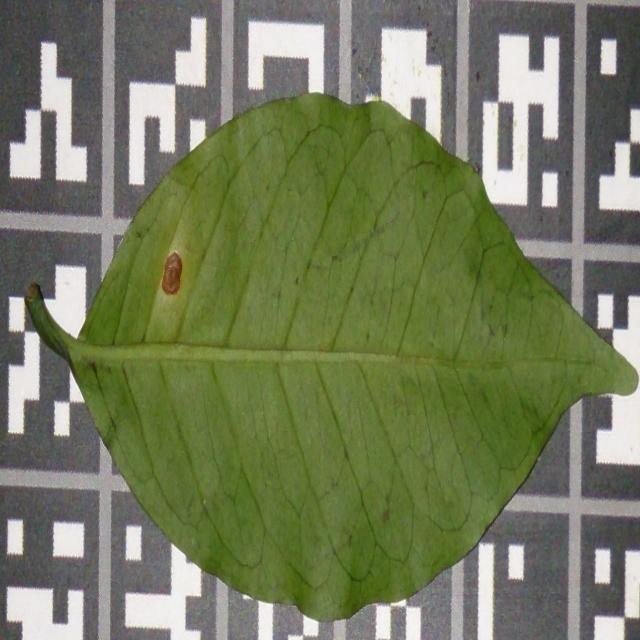Enfermedad-Mancha-de-hierro: (23, 93, 639, 622)
